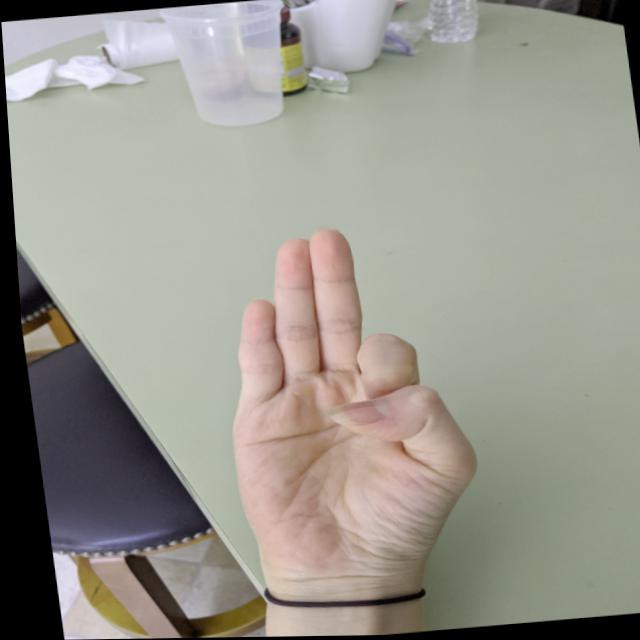F: (192, 211, 495, 614)
